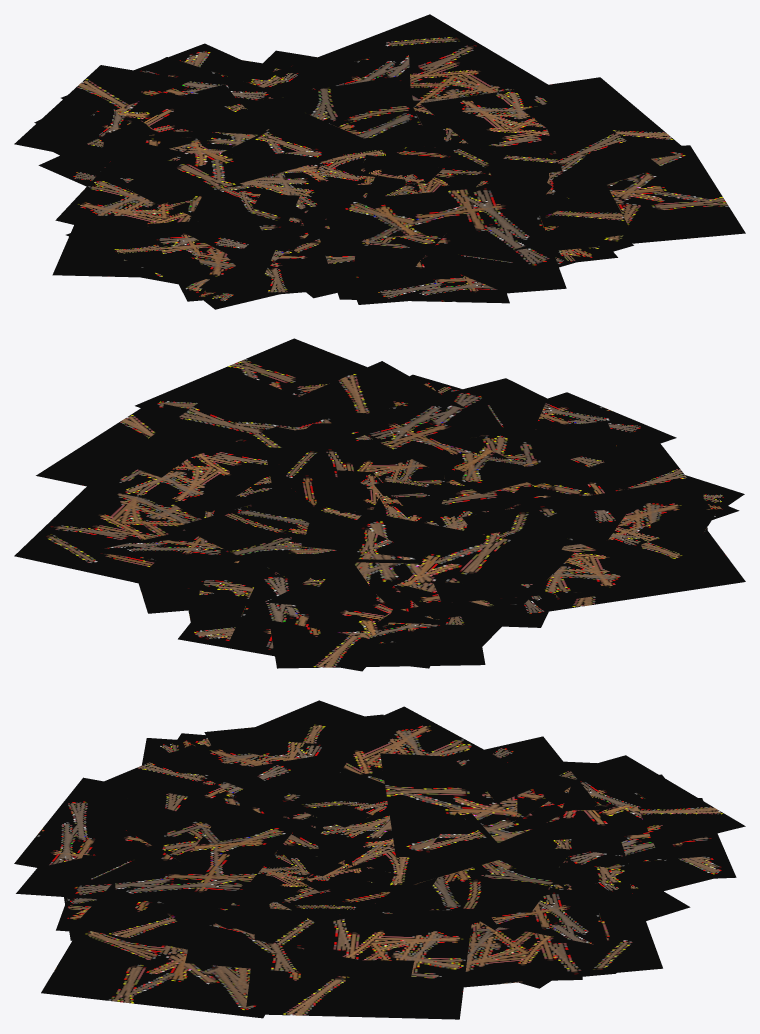
File: needle_clump.glb
3 renders of one model, top to bottom at view 1: azimuth 30°, elevation 25°; view 2: azimuth 150°, elevation 25°; view 3: azimuth 270°, elevation 25°, orthographic. The views are drawn at different scales.
Parts seen in each view (by area): view 1: needle_clump; view 2: needle_clump; view 3: needle_clump.
Part boxes in pixels (x1,y1,x2,y2): needle_clump: (14,14,745,309); needle_clump: (14,338,745,671); needle_clump: (14,700,745,1019).
Bounding box in the file's own units: 0.9493 × 0.0301 × 0.92.
Materials: 1 (1 with a texture image).
